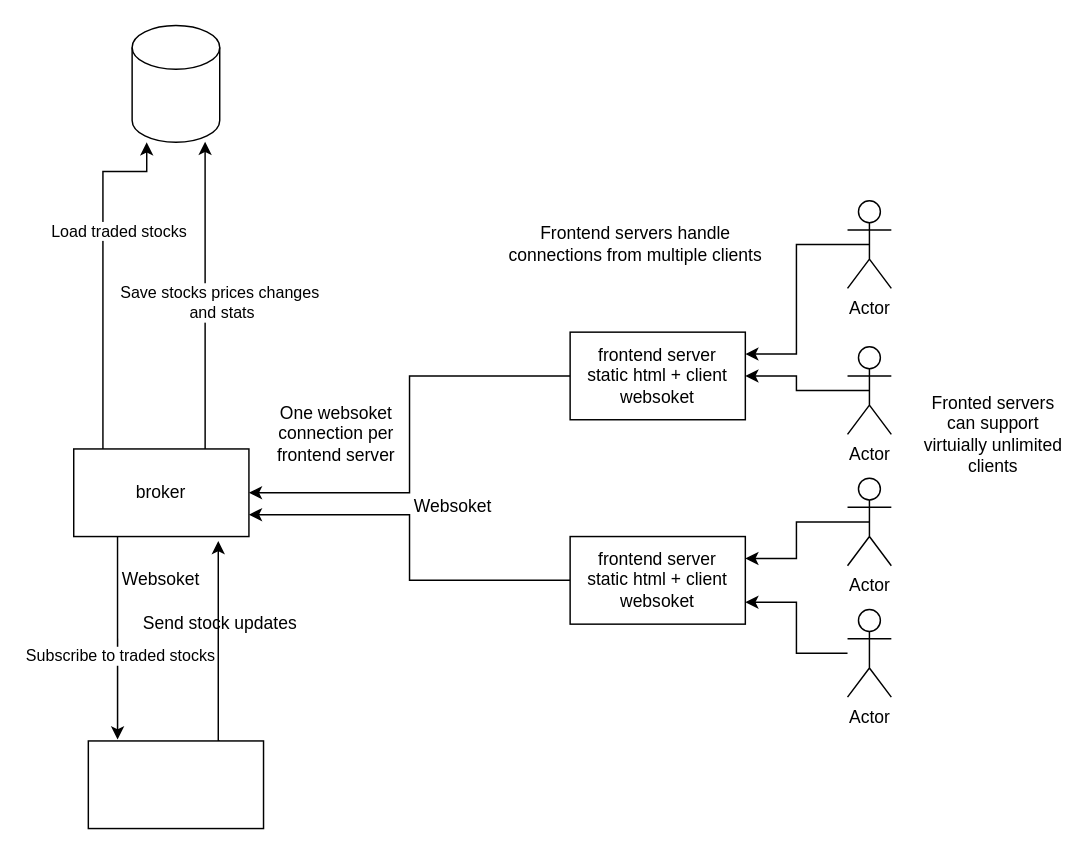
Image size: 1092x854. Some labels were removed from this diagram. The shapes that lost their labels are listed below. From the top down, each one's centre as x and y in pixels, then its label:
At [175,83]: "DB".
At [175,784]: "exchange server".
